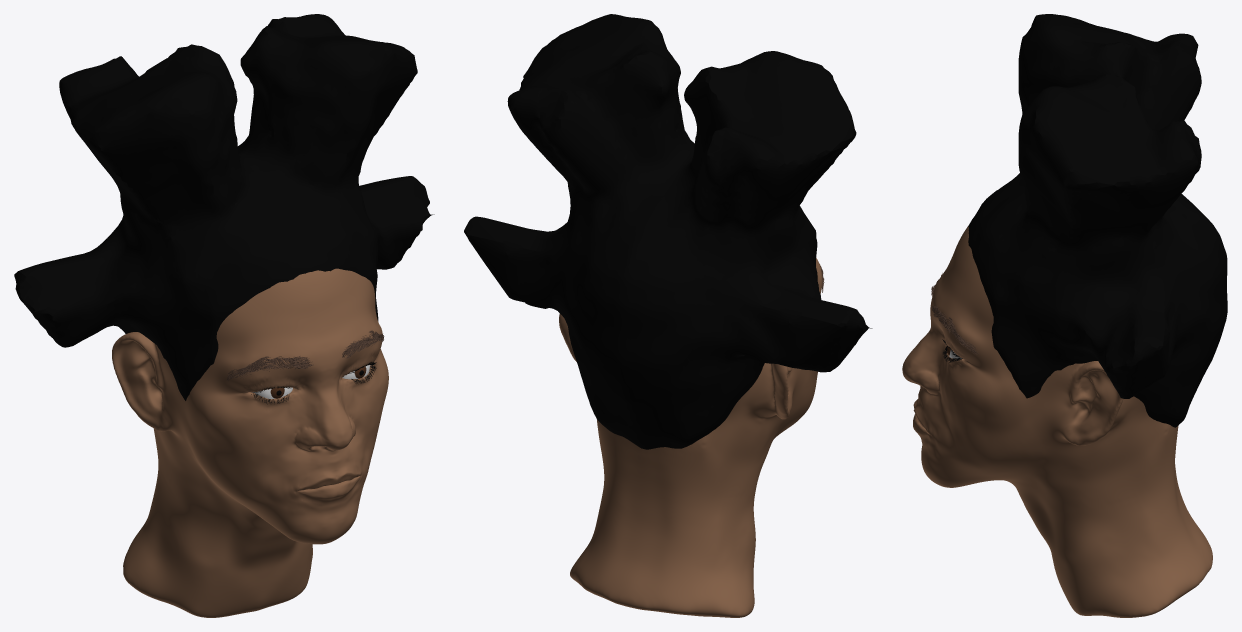
3 views of the same model, side by side, from view 1: azimuth 30°, elevation 25°; view 2: azimuth 150°, elevation 25°; view 3: azimuth 270°, elevation 25° (orthographic). The views are drawn at different scales.
Visible parts, largest first — view 1: hair_base, head, eyebrow_l Mesh; view 2: hair_base, head; view 3: hair_base, head, eyebrow_r Mesh.
Part boxes in pixels (<box>): hair_base: <box>14,14,434,400</box>; head: <box>112,268,388,617</box>; eyebrow_l Mesh: <box>227,356,313,380</box>; hair_base: <box>464,14,872,449</box>; head: <box>559,258,822,617</box>; hair_base: <box>968,14,1227,427</box>; head: <box>902,225,1212,617</box>; eyebrow_r Mesh: <box>932,305,978,355</box>.
Bounding box in the file's own units: 3.22 × 4.23 × 2.32.
